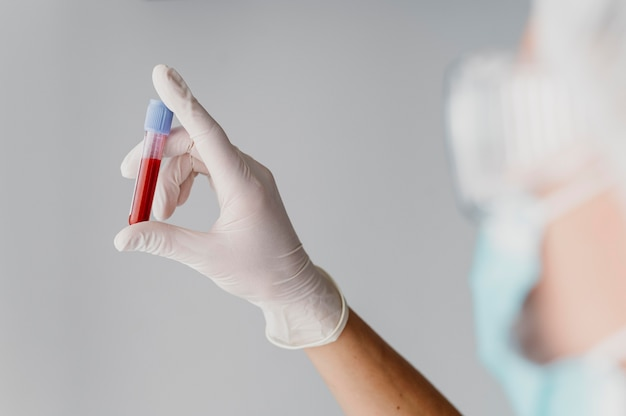blood: (125, 153, 164, 234)
